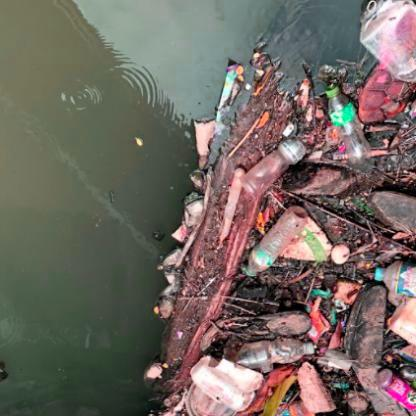Metal: (378, 375, 415, 409)
Plastic: (236, 126, 314, 200), (242, 202, 310, 280), (358, 1, 415, 80), (323, 83, 374, 166), (231, 336, 318, 370), (367, 259, 415, 293)
Trash: (293, 362, 337, 415)
